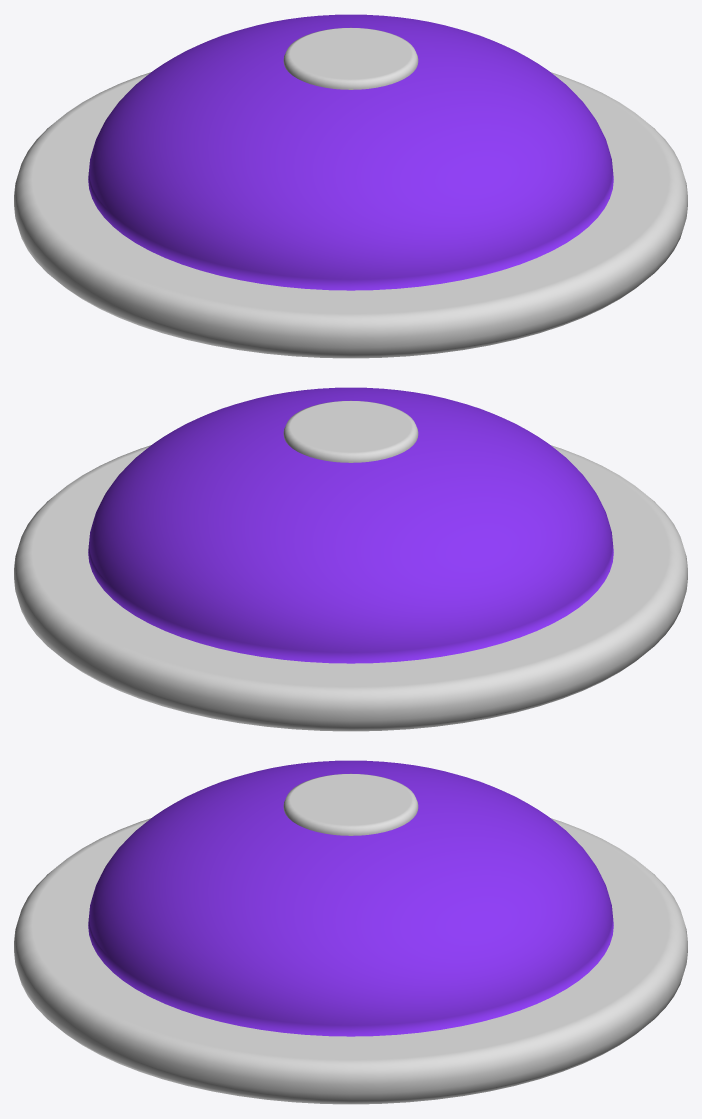
The model's file is puck.glb.
3 renders of one model, top to bottom at view 1: azimuth 30°, elevation 25°; view 2: azimuth 150°, elevation 25°; view 3: azimuth 270°, elevation 25°, orthographic.
Visible parts, largest first — view 1: PuckDome, PuckRim, PuckDot; view 2: PuckDome, PuckRim, PuckDot; view 3: PuckDome, PuckRim, PuckDot.
Part boxes in pixels (x1,y1,x2,y2): PuckDome: (88,14,613,290); PuckRim: (14,72,687,358); PuckDot: (283,27,418,89); PuckDome: (88,387,613,663); PuckRim: (14,445,687,731); PuckDot: (283,400,418,462); PuckDome: (88,760,613,1036); PuckRim: (14,818,687,1104); PuckDot: (283,773,418,835).
Size of the model in its own units: 2 by 0.552 by 2.
